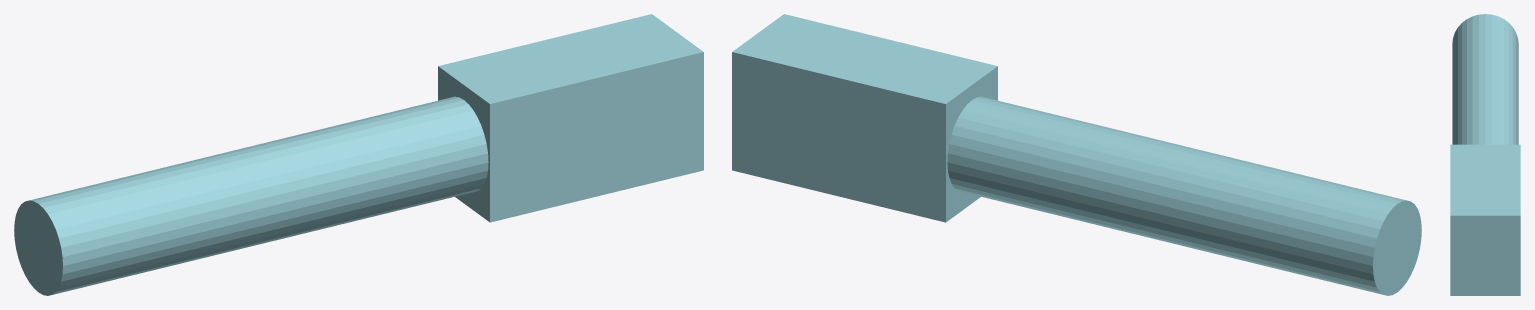
The model's file is cylinder_brush_v11005.obj.
The picture shows the model from 3 angles, left to right: view 1: azimuth 30°, elevation 25°; view 2: azimuth 150°, elevation 25°; view 3: azimuth 270°, elevation 25°; orthographic projection. The views are drawn at different scales.
Size of the model in its own units: 0.2833 by 0.0502 by 0.0399.
1 material, 1 textured.
